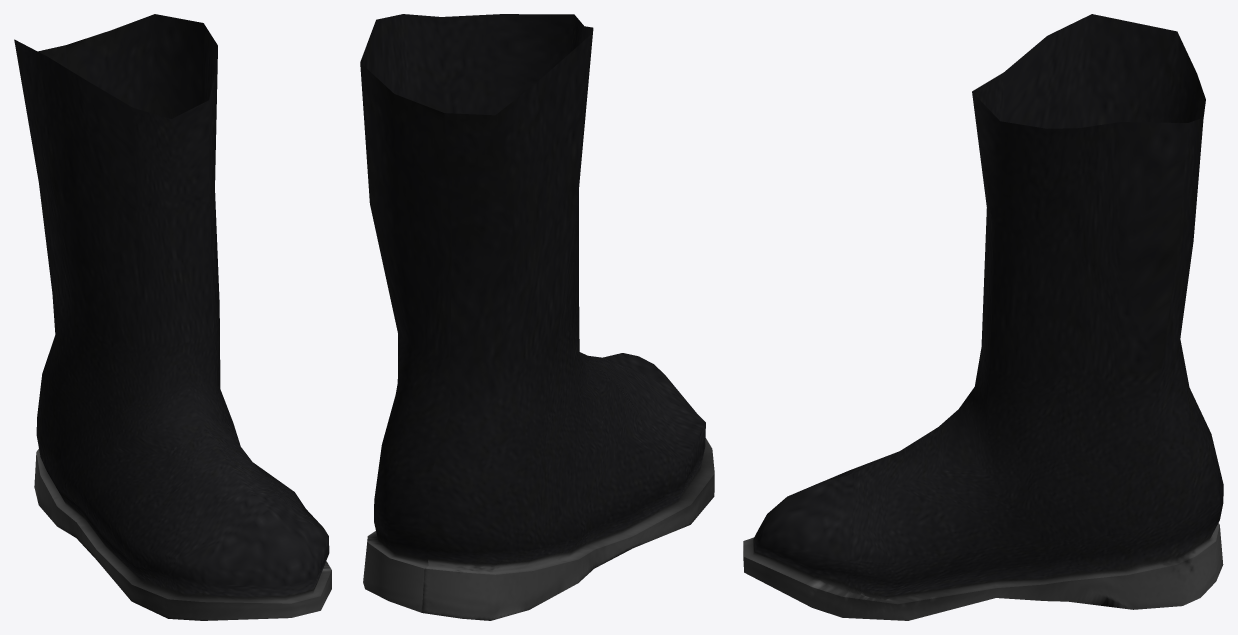
File: coboy_boot_kanan.FBX
The picture shows the model from 3 angles, left to right: view 1: azimuth 30°, elevation 25°; view 2: azimuth 150°, elevation 25°; view 3: azimuth 270°, elevation 25°; orthographic projection. The views are drawn at different scales.
Visible parts, largest first — view 1: coboy_boot_kanan; view 2: coboy_boot_kanan; view 3: coboy_boot_kanan.
Boxes of the visible parts, x1=… form: coboy_boot_kanan: x1=14, y1=14, x2=331, y2=620; coboy_boot_kanan: x1=360, y1=14, x2=714, y2=620; coboy_boot_kanan: x1=743, y1=14, x2=1223, y2=620.
Bounding box in the file's own units: 6.06 × 16.25 × 13.6.
